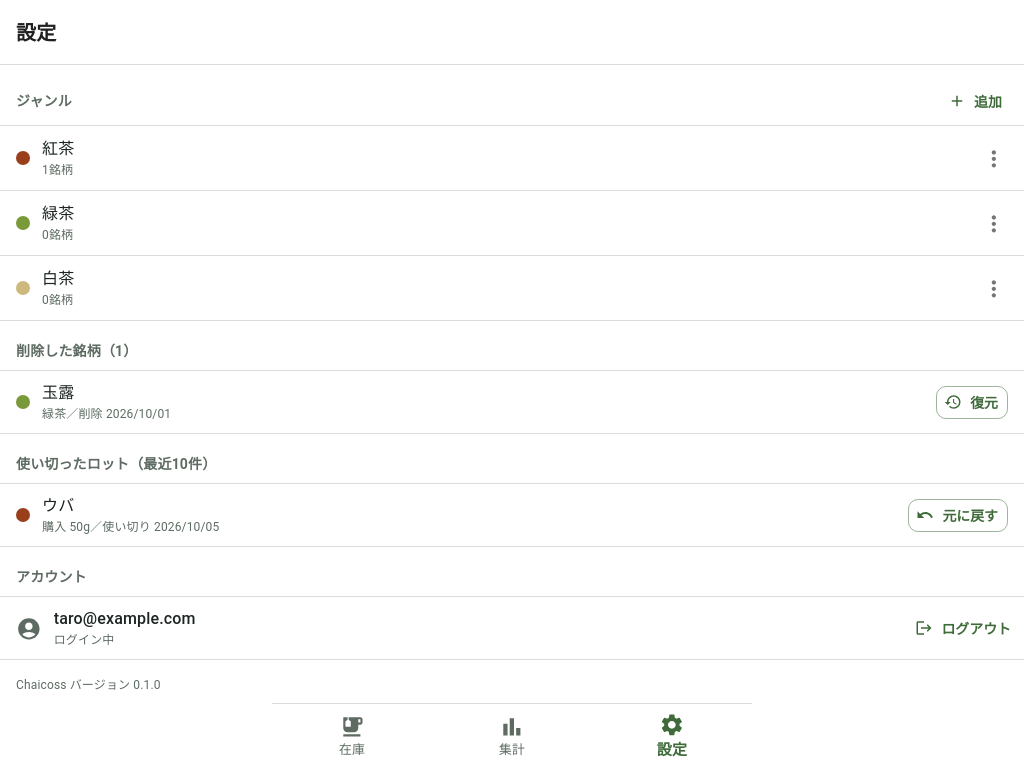
SC-07 設定：ジャンル › 上へ移動・下へ移動で並べ替える（先頭の上へ・最後の下へは無効）
Click the 2nd button.
click(994, 158)  # box left=972, top=136, right=1016, bottom=180
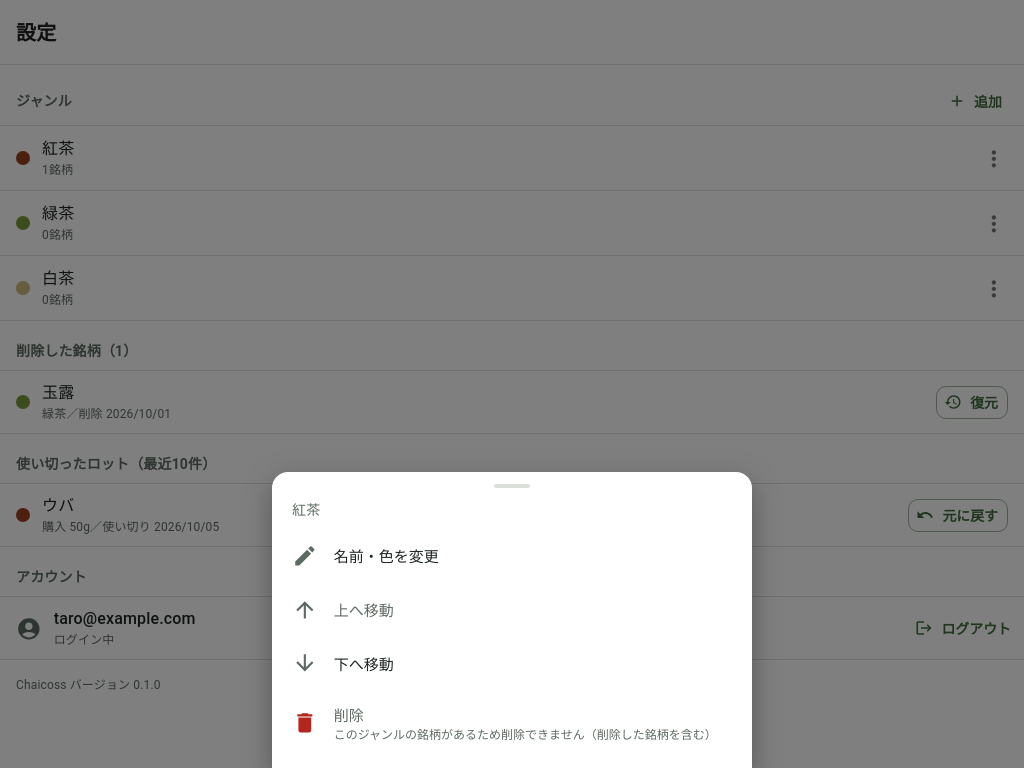
Result: the menu item "上へ移動" is disabled at left=272, top=583, right=752, bottom=636
Click the menu item "下へ移動".
click(364, 664)  # box left=272, top=636, right=752, bottom=690
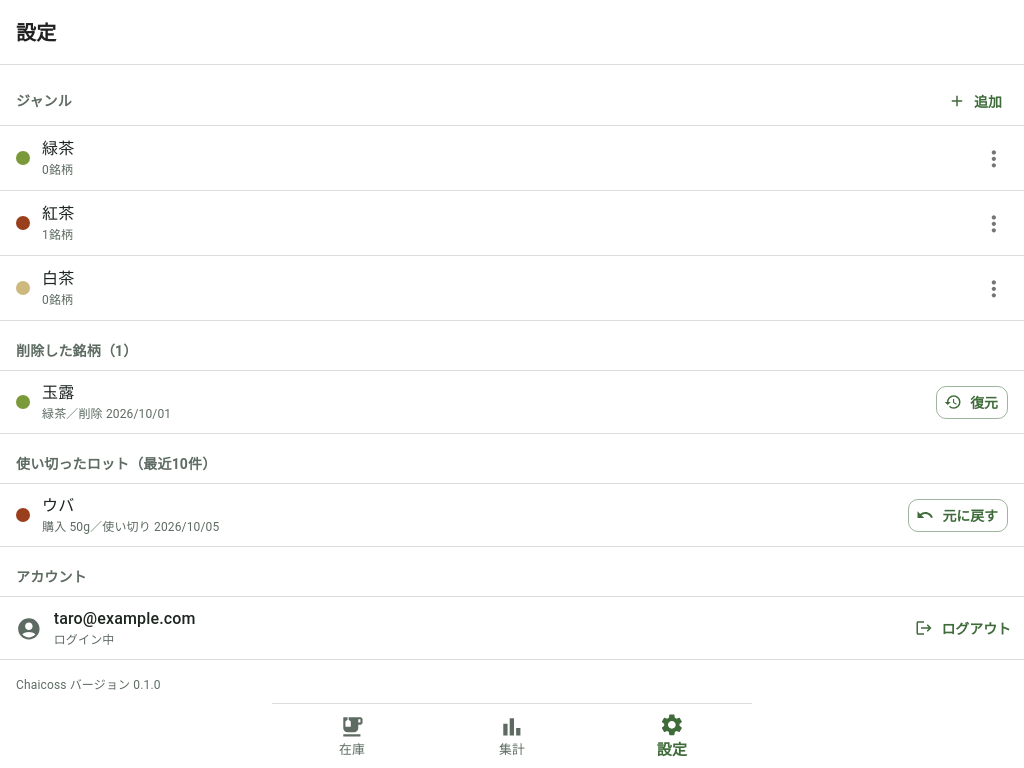
Click the 4th button.
click(994, 288)  # box left=972, top=266, right=1016, bottom=310
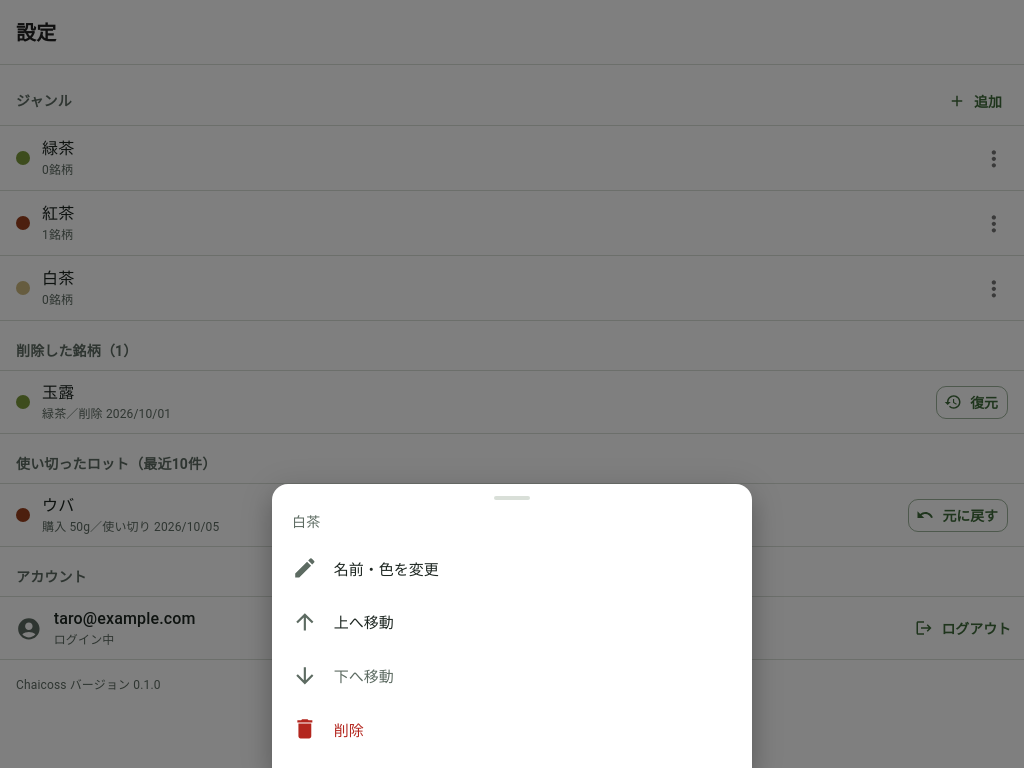
Result: the menu item "下へ移動" is disabled at left=272, top=649, right=752, bottom=702
